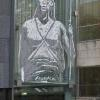Statue: (18, 0, 75, 84)
